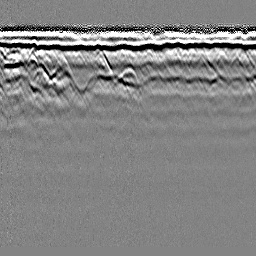cavity: (115, 65, 140, 87)
